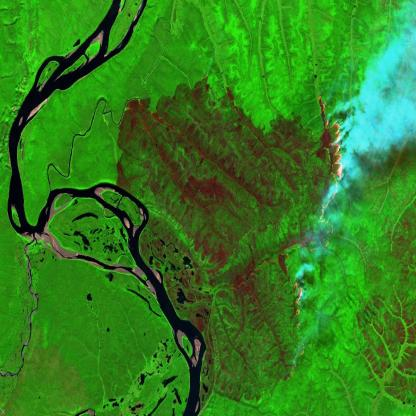fire: (287, 87, 355, 320)
